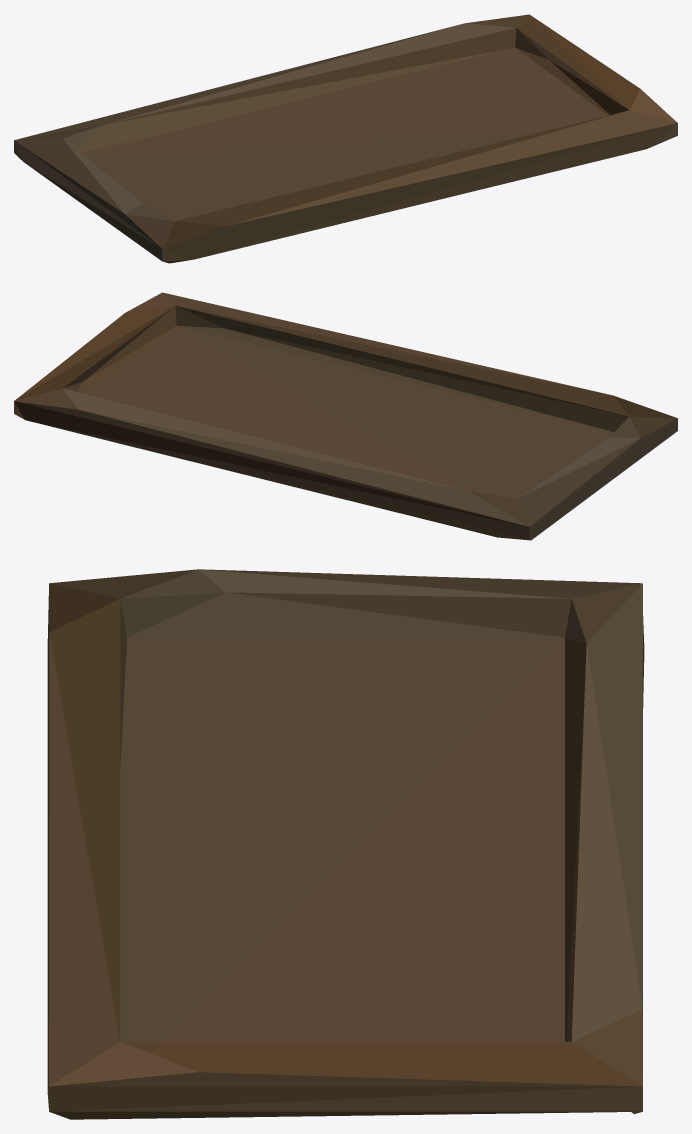
The model's file is CrateC_Top.fbx.
3 views of the same model, one above another, from view 1: azimuth 30°, elevation 25°; view 2: azimuth 150°, elevation 25°; view 3: azimuth 270°, elevation 25° (orthographic). The views are drawn at different scales.
Parts seen in each view (by area): view 1: CrateC_Top; view 2: CrateC_Top; view 3: CrateC_Top.
Part boxes in pixels (x1,y1,x2,y2): CrateC_Top: [14, 14, 677, 263]; CrateC_Top: [14, 292, 677, 540]; CrateC_Top: [47, 569, 644, 1119].
Bounding box in the file's own units: 199 × 9.52 × 100.
